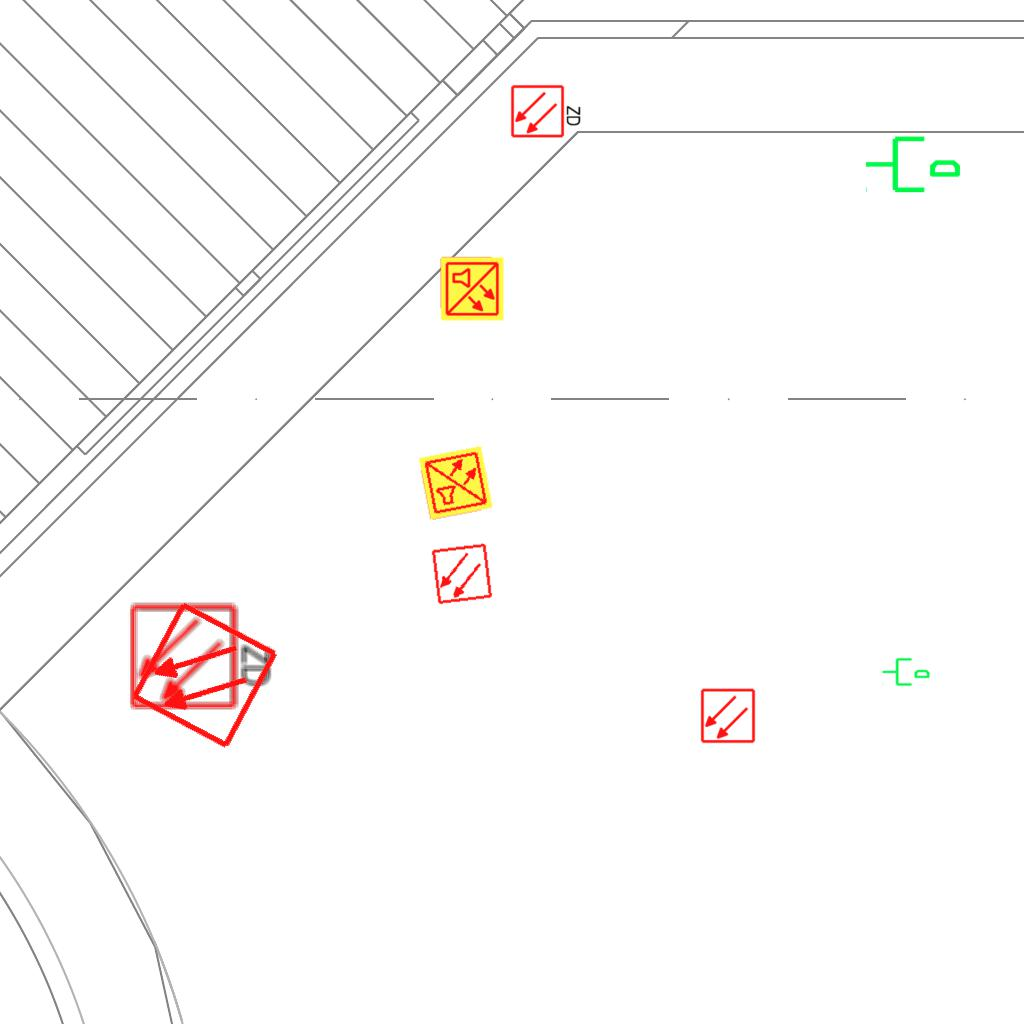Datenanschluss_einfach: (863, 128, 963, 197), (881, 654, 931, 688)
OKW_Multisensormelder_(Kombination_optischer_Rauch-Kahlenmonoxid_Waerme-Melder): (417, 444, 495, 522), (439, 256, 505, 322)
RMO_Rauchmelder_optischer: (128, 599, 281, 752), (430, 542, 494, 606), (700, 688, 756, 744)
ZD_Melder_in_Zwischendecke_mit_Revisionsoeffnung_mind_40_x_40_cm: (128, 598, 277, 712), (510, 82, 584, 139)
